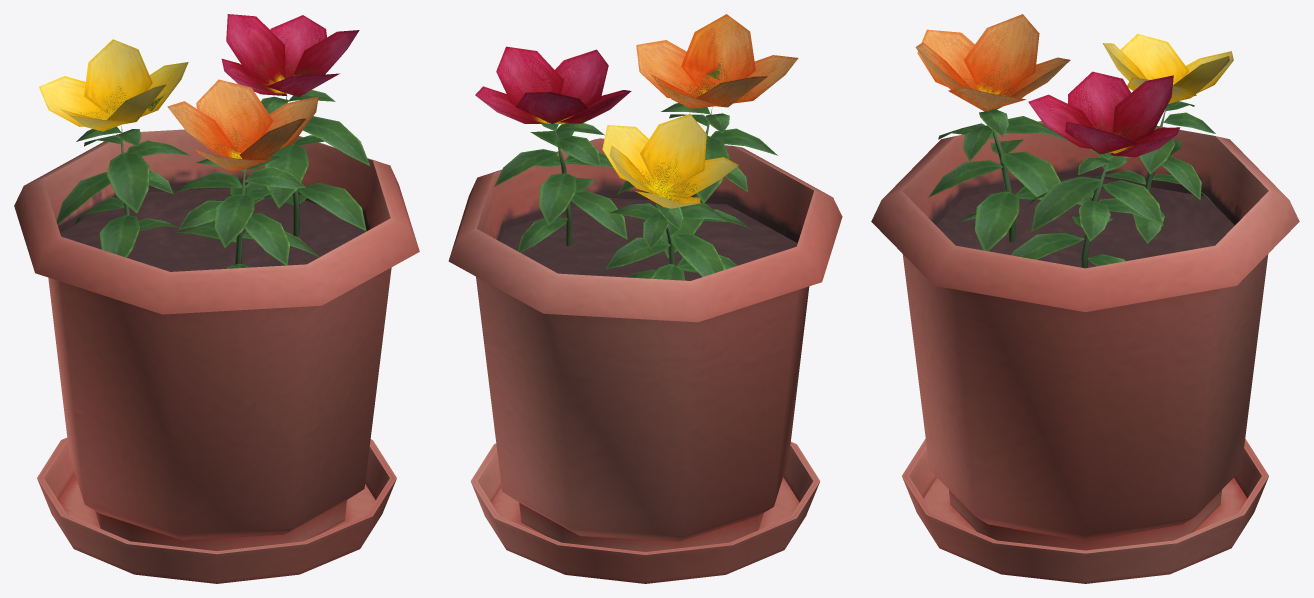
The model's file is set_pot_04.fbx.
The picture shows the model from 3 angles, left to right: view 1: azimuth 30°, elevation 25°; view 2: azimuth 150°, elevation 25°; view 3: azimuth 270°, elevation 25°; orthographic projection. The views are drawn at different scales.
Parts seen in each view (by area): view 1: flowerpot_04, saucer_04; view 2: flowerpot_04, saucer_04; view 3: flowerpot_04, saucer_04.
Boxes of the visible parts, left/top/right/bottom form: flowerpot_04: left=14, top=14, right=419, bottom=550; saucer_04: left=37, top=437, right=396, bottom=583; flowerpot_04: left=448, top=14, right=842, bottom=551; saucer_04: left=470, top=442, right=820, bottom=583; flowerpot_04: left=871, top=14, right=1299, bottom=550; saucer_04: left=902, top=439, right=1268, bottom=583.
Size of the model in its own units: 23.93 by 28.68 by 23.93.
